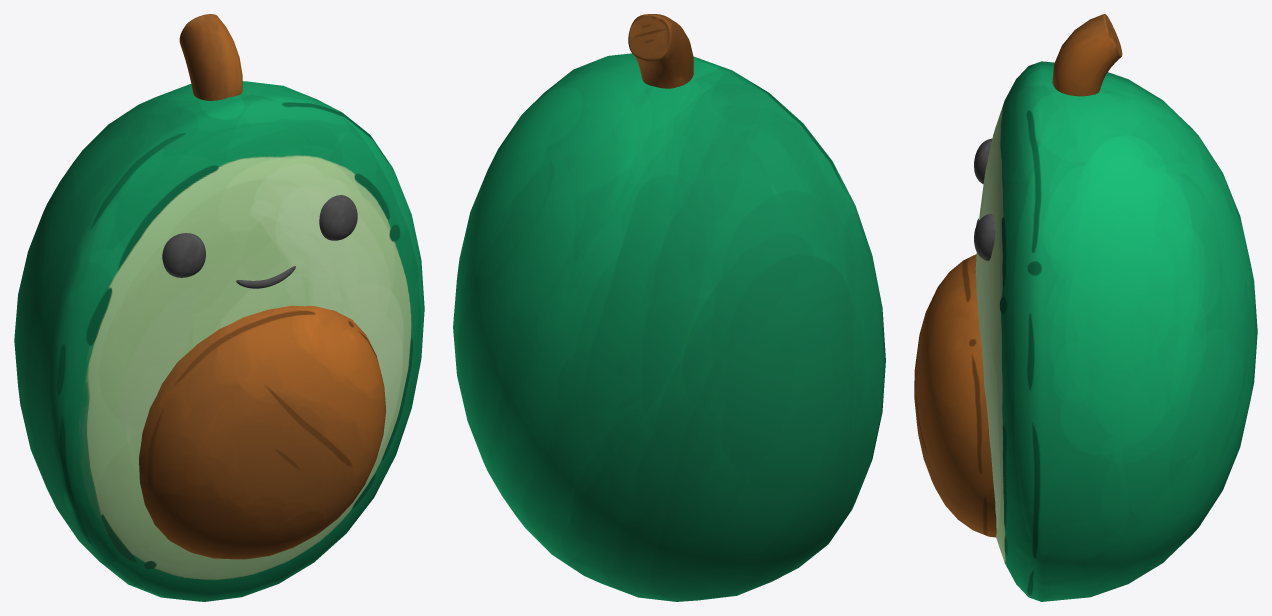
The model's file is M_Aguacate.fbx.
3 renders of one model, left to right at view 1: azimuth 30°, elevation 25°; view 2: azimuth 150°, elevation 25°; view 3: azimuth 270°, elevation 25°, orthographic. The views are drawn at different scales.
Visible parts, largest first — view 1: Peluche_Aguacate; view 2: Peluche_Aguacate; view 3: Peluche_Aguacate.
Boxes of the visible parts, x1=… form: Peluche_Aguacate: x1=14, y1=14, x2=424, y2=601; Peluche_Aguacate: x1=453, y1=14, x2=885, y2=601; Peluche_Aguacate: x1=914, y1=14, x2=1257, y2=601.
Bounding box in the file's own units: 3.16 × 4.53 × 2.5.
